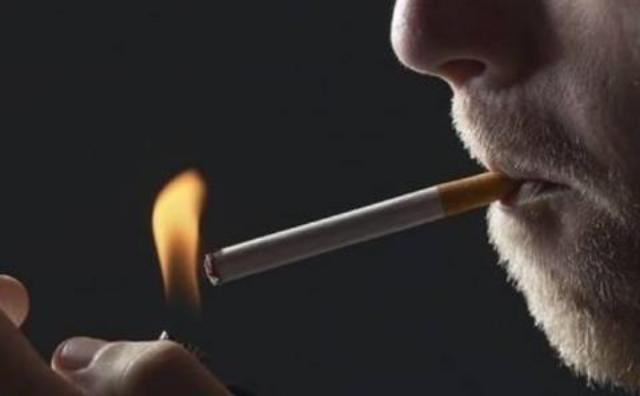Smoking: (203, 170, 512, 286)
